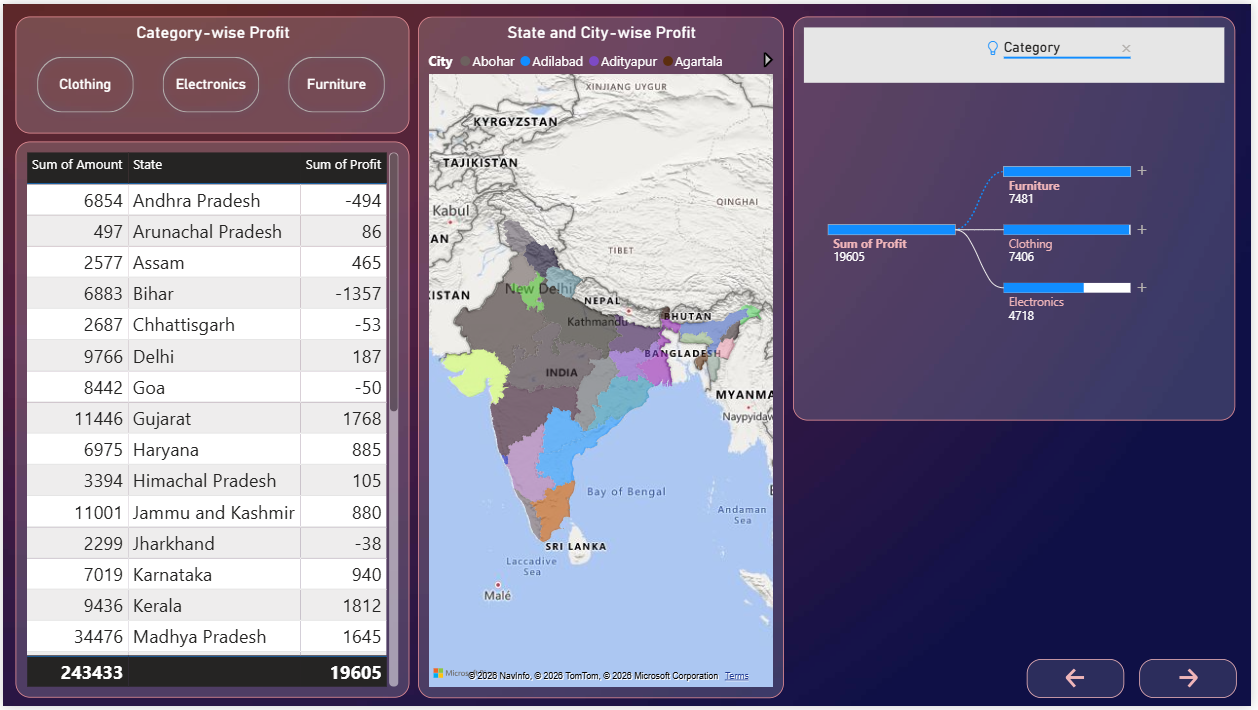

This screenshot's page, from the dashboard's own definition file:
{"tool":"powerbi","page":{"name":"Dashboard 7","canvas":[1280,720],"ordinal":6},"visuals":[{"type":"filledMap","title":"State and City-wise Profit","fields":{"Category":["Orders.State"],"Series":["Orders.City"]},"box":[425.8,12.3,375.5,699.4],"z":0},{"type":"tableEx","fields":{"Values":["Sum(Details.Amount)","Orders.State","Sum(Details.Profit)"]},"box":[12.5,141.2,403.8,570],"z":1000},{"type":"advancedSlicerVisual","title":"Category-wise Profit","fields":{"Values":["Details.Category"]},"box":[12.3,12.3,403.7,120.2],"z":2000},{"type":"actionButton","box":[1165,671.2,100,40],"z":3000},{"type":"actionButton","box":[1050,671.2,100,40],"z":4000},{"type":"decompositionTreeVisual","fields":{"ExplainBy":["Details.Category","Details.Sub-Category"],"Analyze":["Sum(Details.Profit)"]},"box":[809.8,12.3,454,414.7],"z":5000}]}

Visuals, with their boxes in screenshot pixels (x1, y1, x2, y2), scaled from the page's 1280x720 canvas onto the 1258x710 screenshot:
"State and City-wise Profit" filledMap: bbox=[418, 12, 788, 702]
tableEx - Sum(Details.Amount) x Orders.State: bbox=[12, 139, 409, 701]
"Category-wise Profit" advancedSlicerVisual: bbox=[12, 12, 409, 131]
actionButton: bbox=[1145, 662, 1243, 701]
actionButton: bbox=[1032, 662, 1130, 701]
decompositionTreeVisual - Details.Category x Details.Sub-Category: bbox=[796, 12, 1242, 421]
